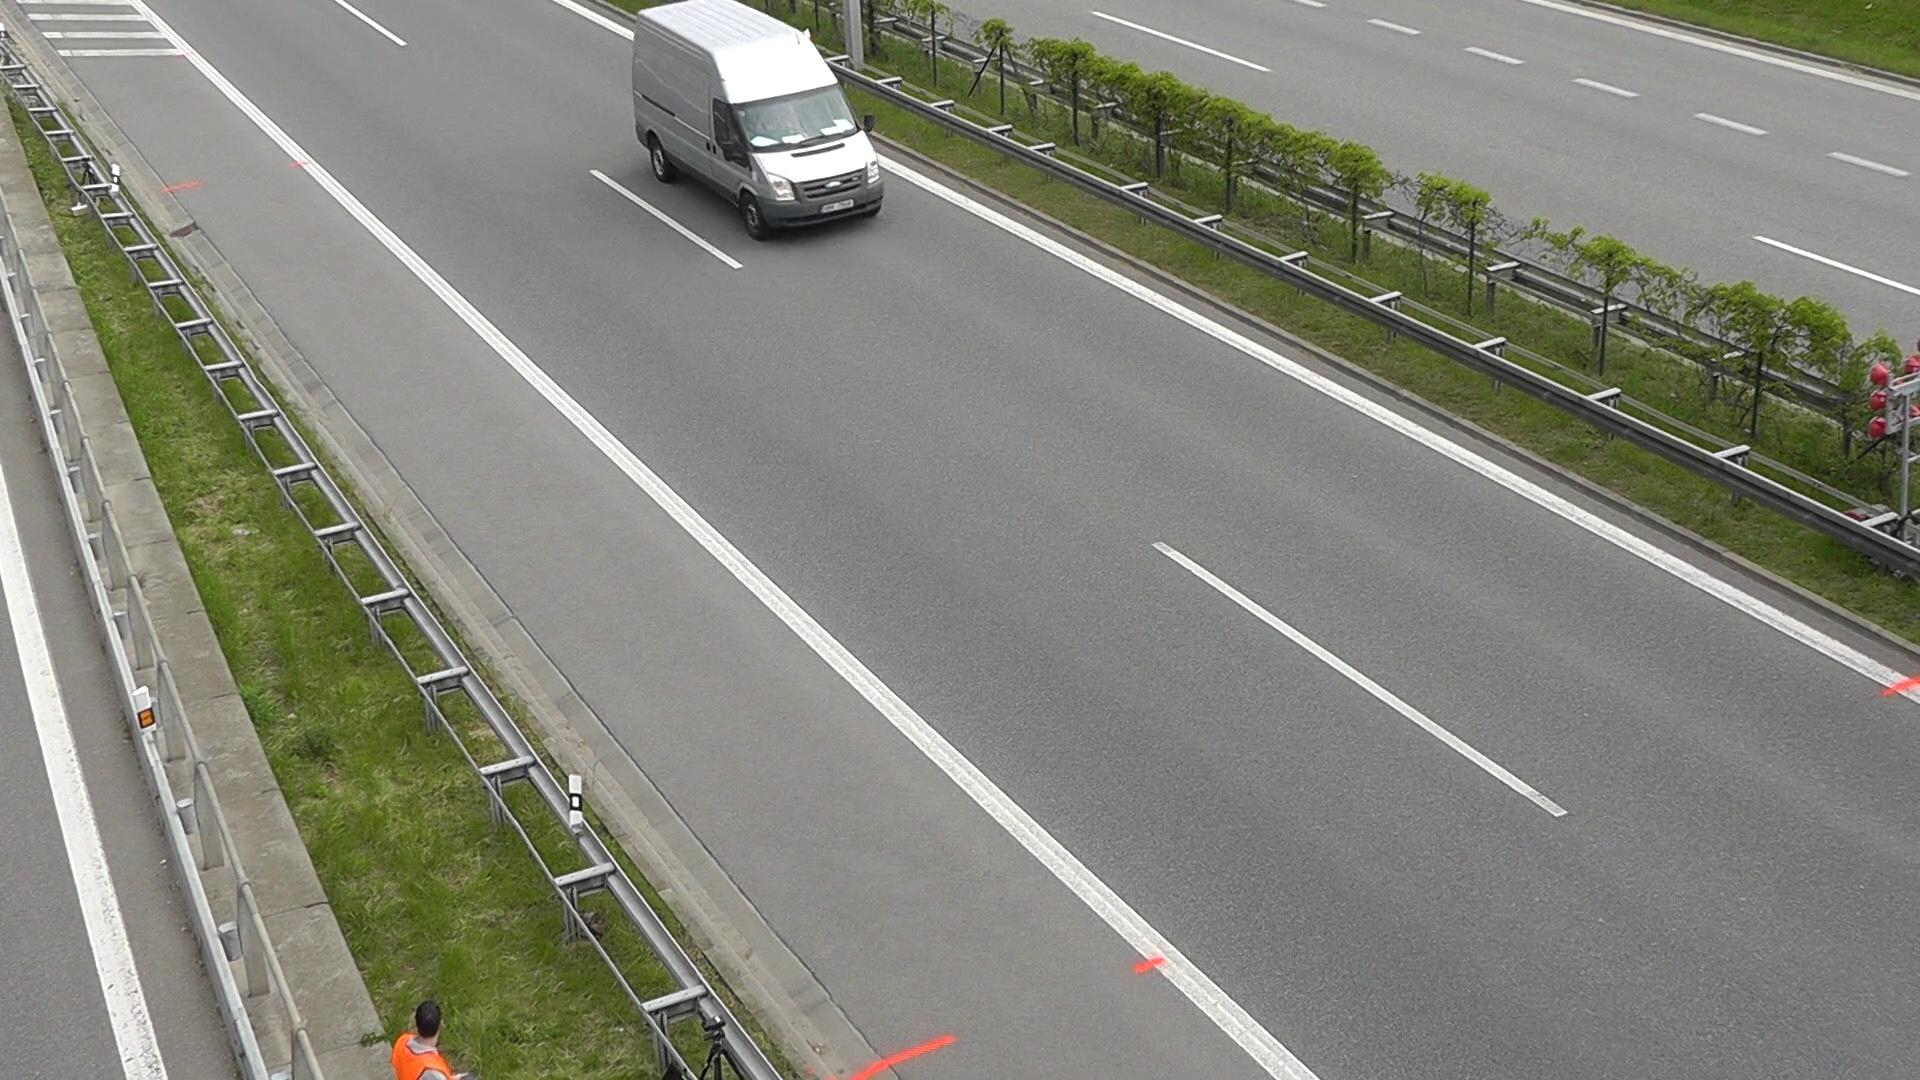Human: (376, 995, 482, 1078)
Pedestrian: (208, 742, 782, 1078), (134, 420, 443, 740)
Van: (600, 0, 910, 239)
